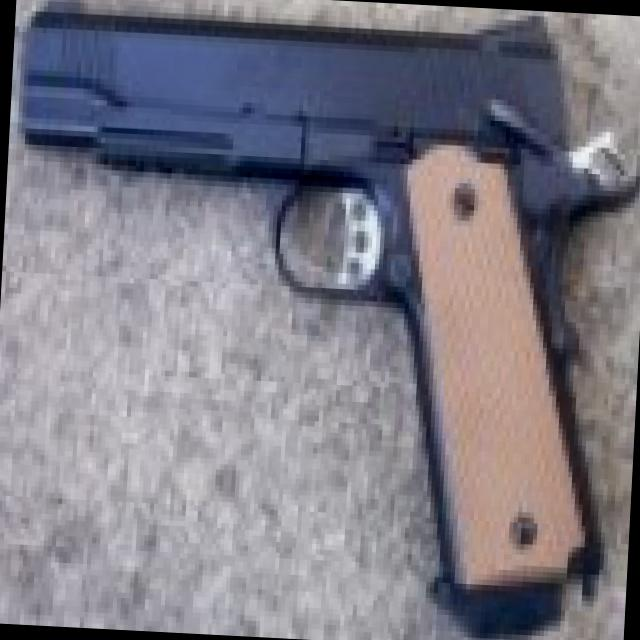handgun: (0, 0, 628, 618)
